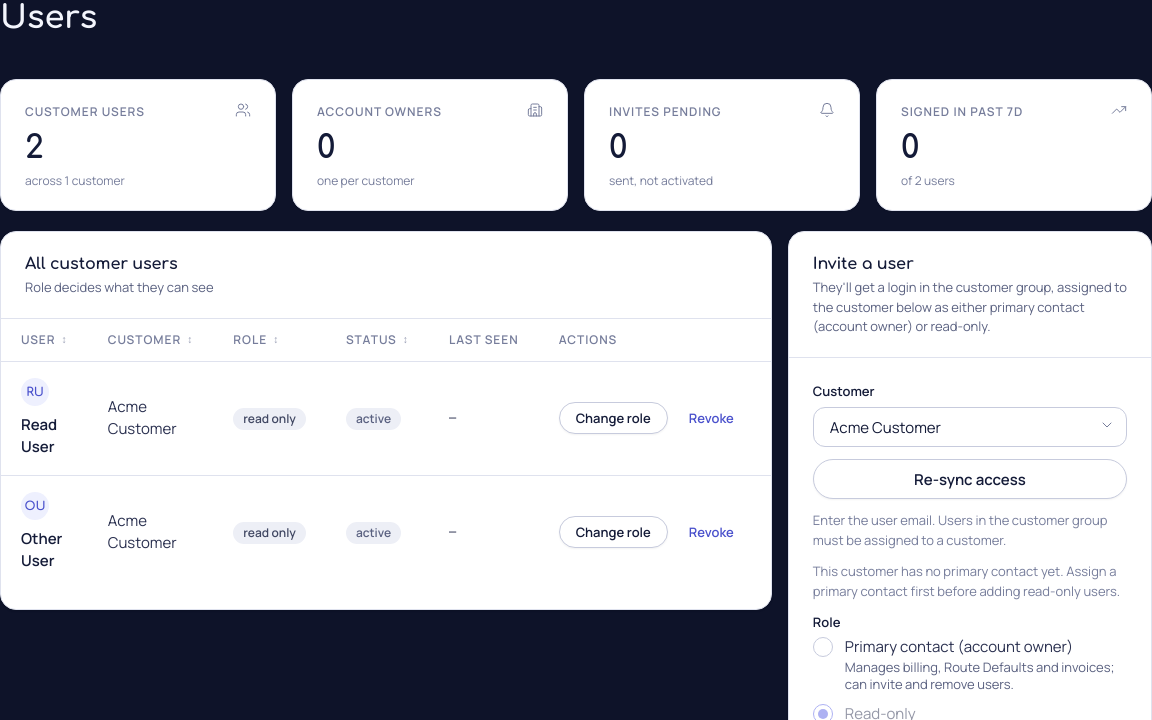
UsersAdminPage customer access actions › tells the admin when a promotion saved but other users weren't moved to the new owner
Click the button with aria-label "Change role for Read User" at (613,418), box x1=559 y1=402 x2=668 y2=434
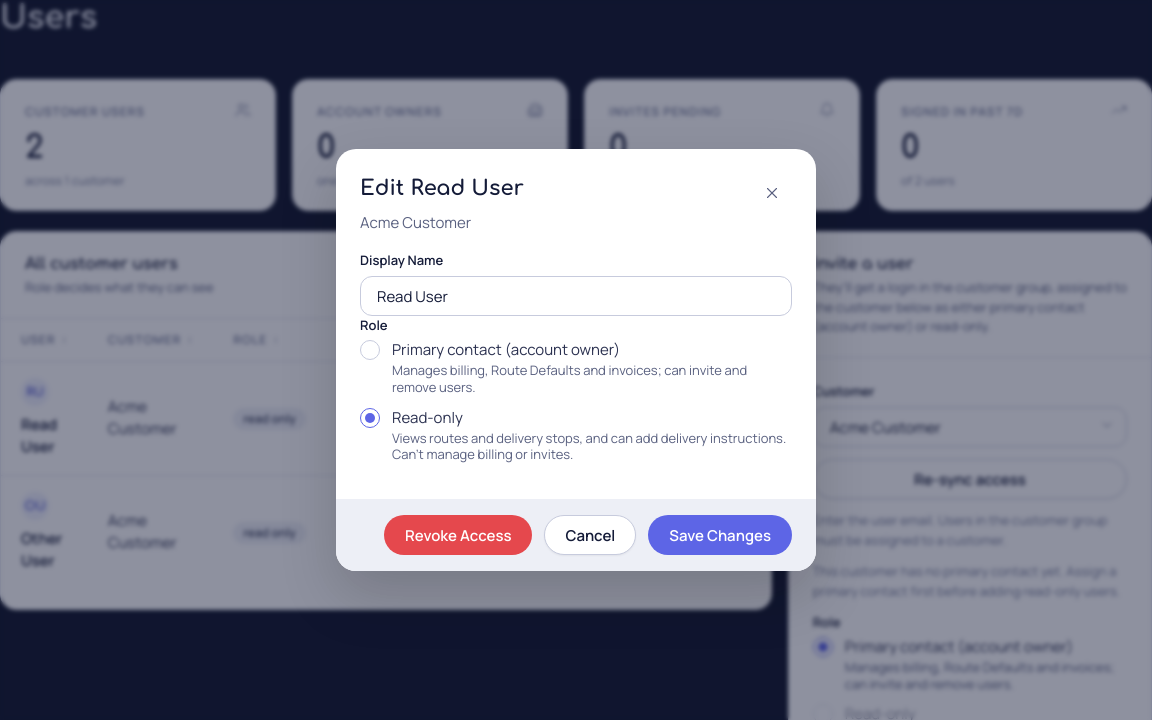
Click the 1st radio button labelled "Primary contact" at (576,368), box x1=360 y1=340 x2=792 y2=396
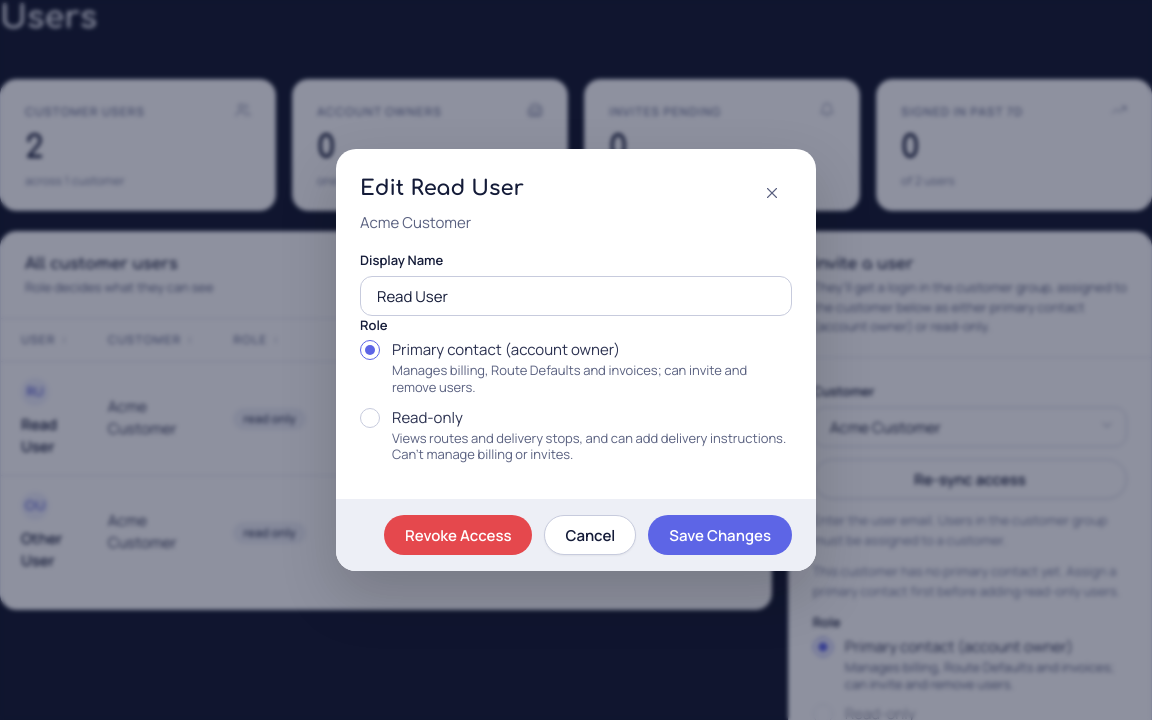
Click the button "Save Changes" at (720,535), box x1=648 y1=515 x2=792 y2=555
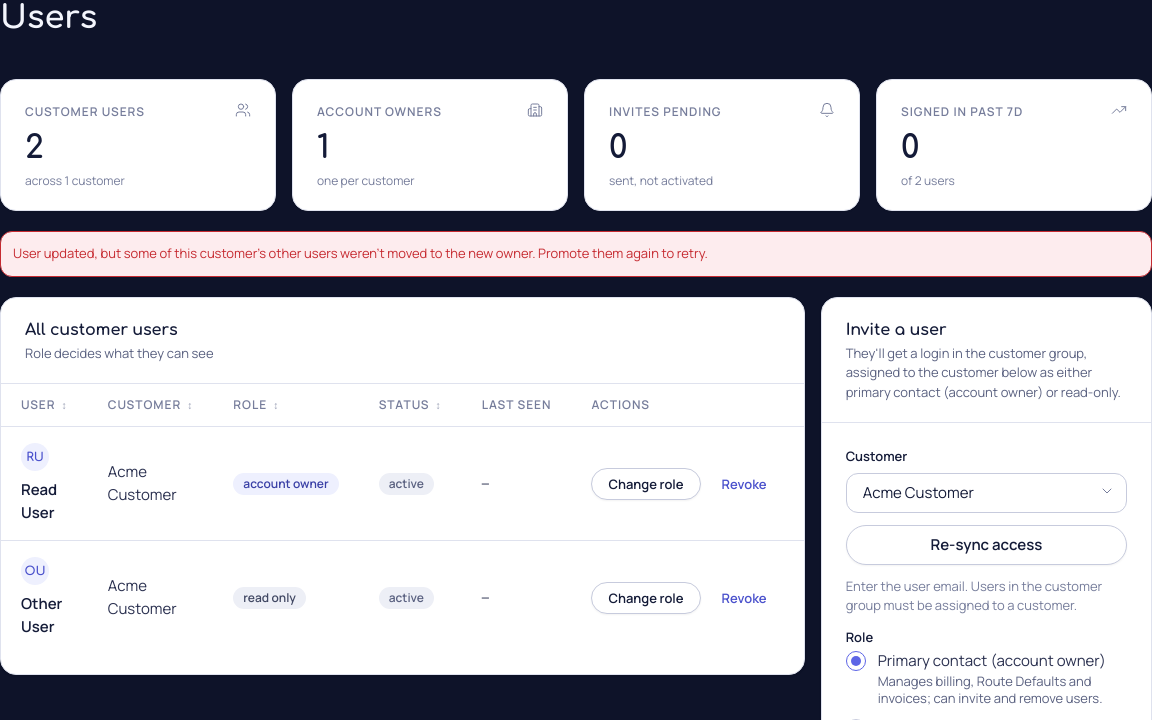
Check: the text "weren't moved to the new owner" is shown, box x1=13 y1=244 x2=708 y2=262
